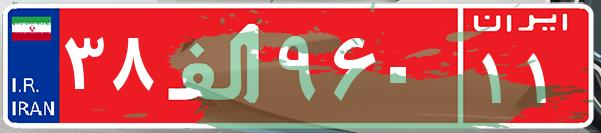0: (385, 28, 445, 110)
1: (475, 38, 525, 113), (525, 38, 570, 115)
3: (57, 26, 110, 107)
6: (330, 28, 385, 110)
8: (110, 28, 158, 105)
9: (273, 28, 330, 110)
الف: (158, 15, 273, 115)
